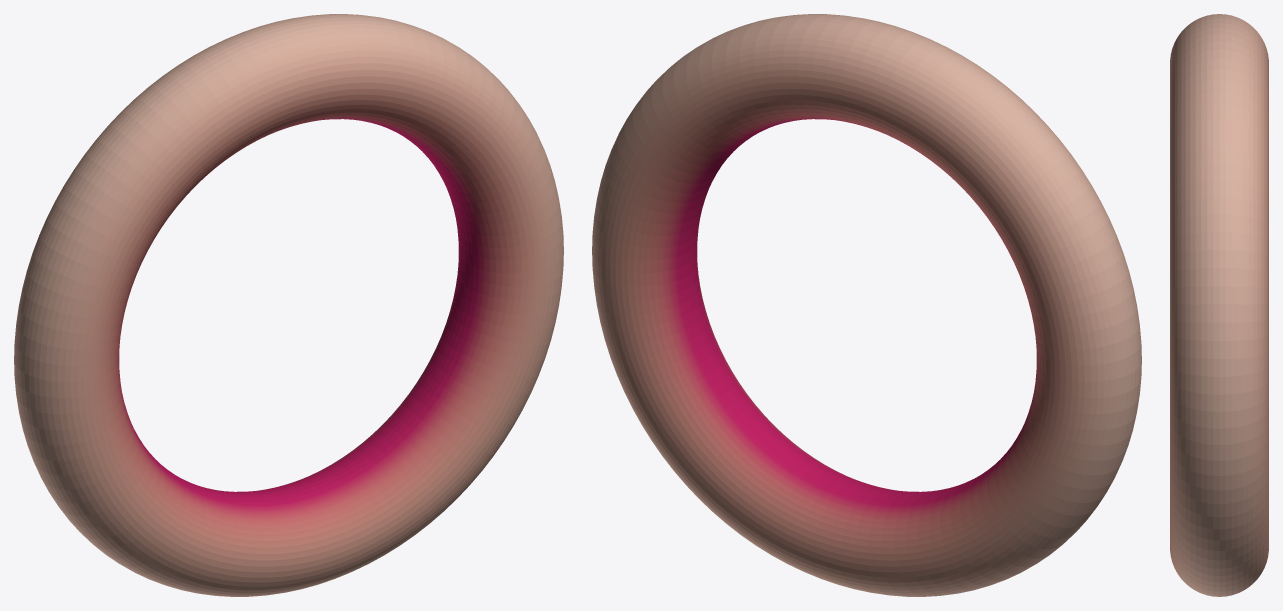
The picture shows the model from 3 angles, left to right: view 1: azimuth 30°, elevation 25°; view 2: azimuth 150°, elevation 25°; view 3: azimuth 270°, elevation 25°; orthographic projection. The views are drawn at different scales.
Parts seen in each view (by area): view 1: world; view 2: world; view 3: world.
Boxes of the visible parts, left/top/right/bottom form: world: left=14, top=14, right=563, bottom=596; world: left=592, top=14, right=1141, bottom=596; world: left=1170, top=14, right=1268, bottom=596.
Size of the model in its own units: 33.73 by 33.73 by 5.72.
